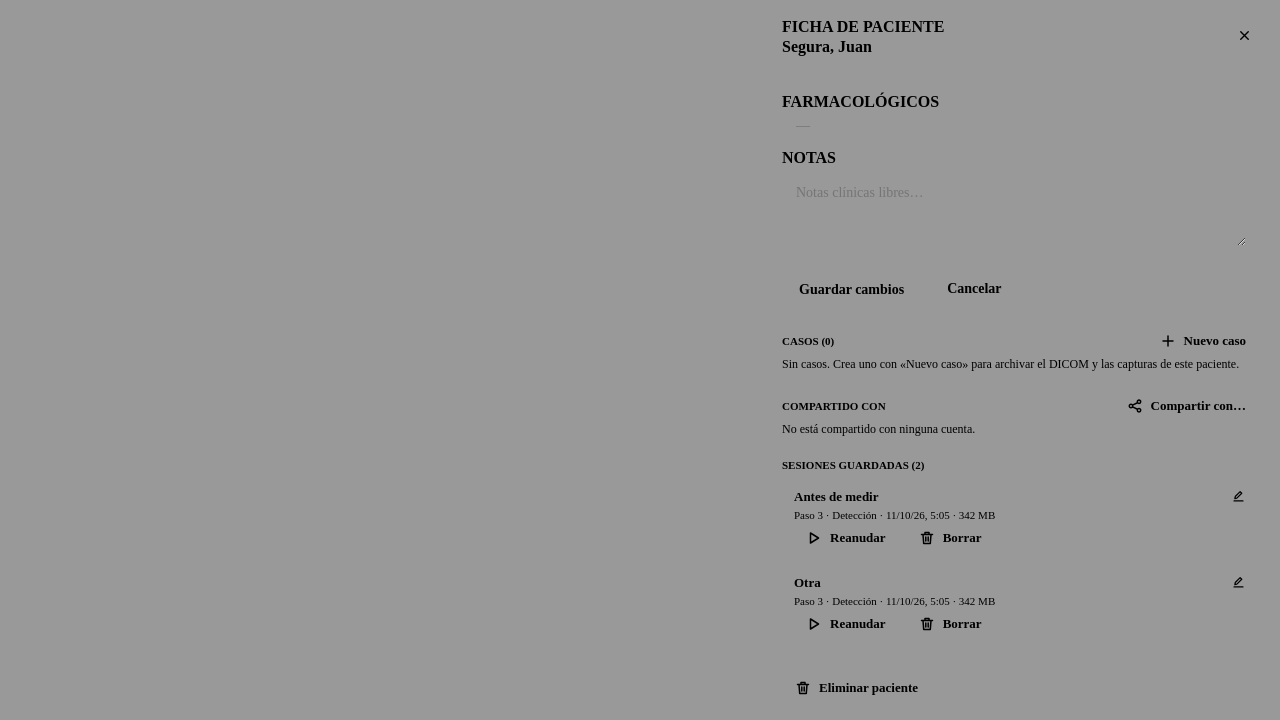
Test: sesiones guardadas (F2-30, F2-73, F2-74, F1-69) › «Borrar» confirma con el nombre, borra y recarga la lista
(page scrolled)
What coordinates should you click on to do the following:
click the button with aria-label "Borrar «Antes de medir»"
I would click on:
 (950, 538)
Its box is [906,529,995,547].
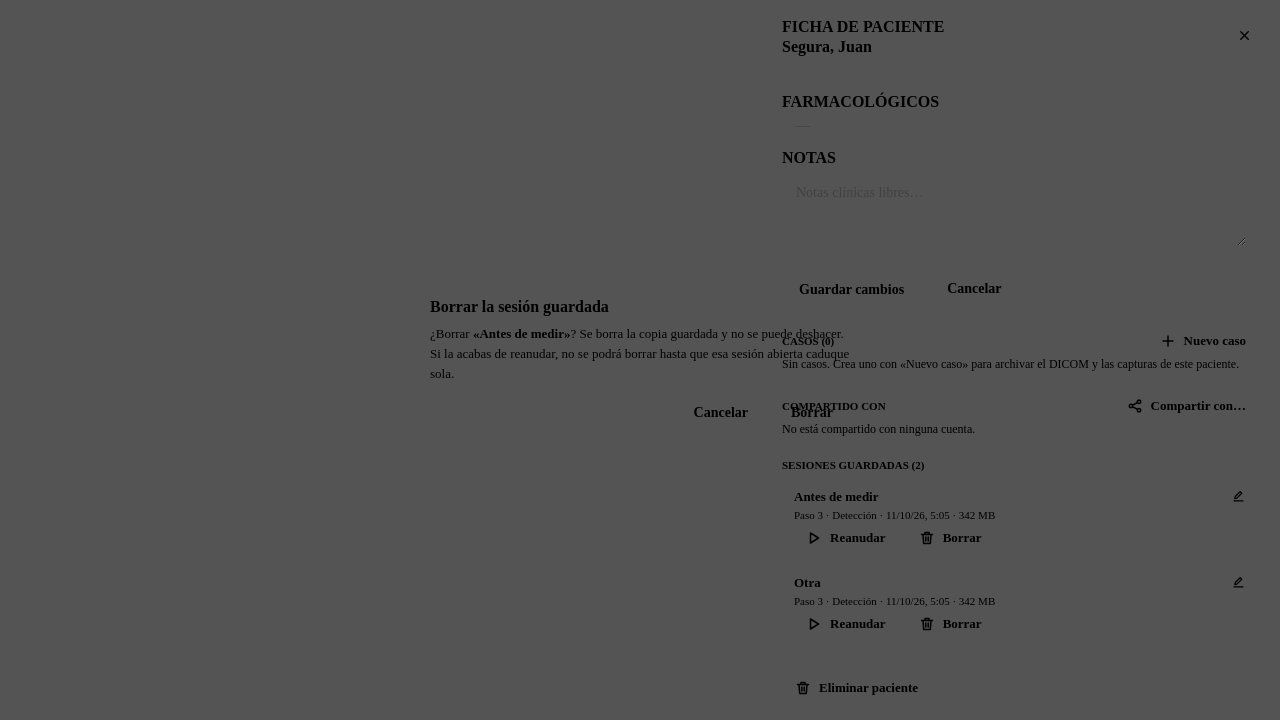
Result: the dialog "Borrar la sesión guardada" shows "Antes de medir" at [480,326,564,341]
Result: the dialog "Borrar la sesión guardada" shows "Se borra la copia guardada y no se puede deshacer. Si la acabas de reanudar, no se podrá borrar hasta que esa sesión abierta caduque sola." at [430,326,849,381]
What coordinates should you click on to do the following:
click the button "Borrar"
I would click on:
 (812, 413)
Its box is [774,404,850,422].
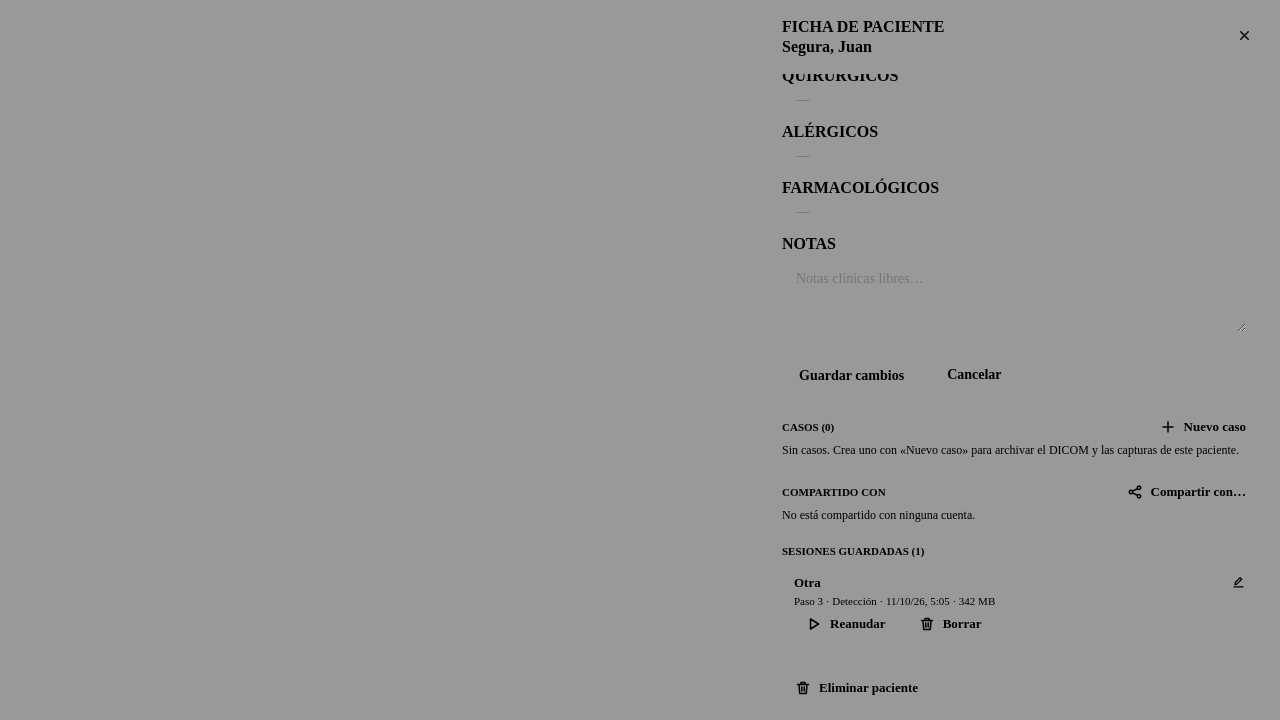
Result: the text "Antes de medir" is gone
Result: the text "Sesiones guardadas (1)" is shown at [782,545,924,557]
